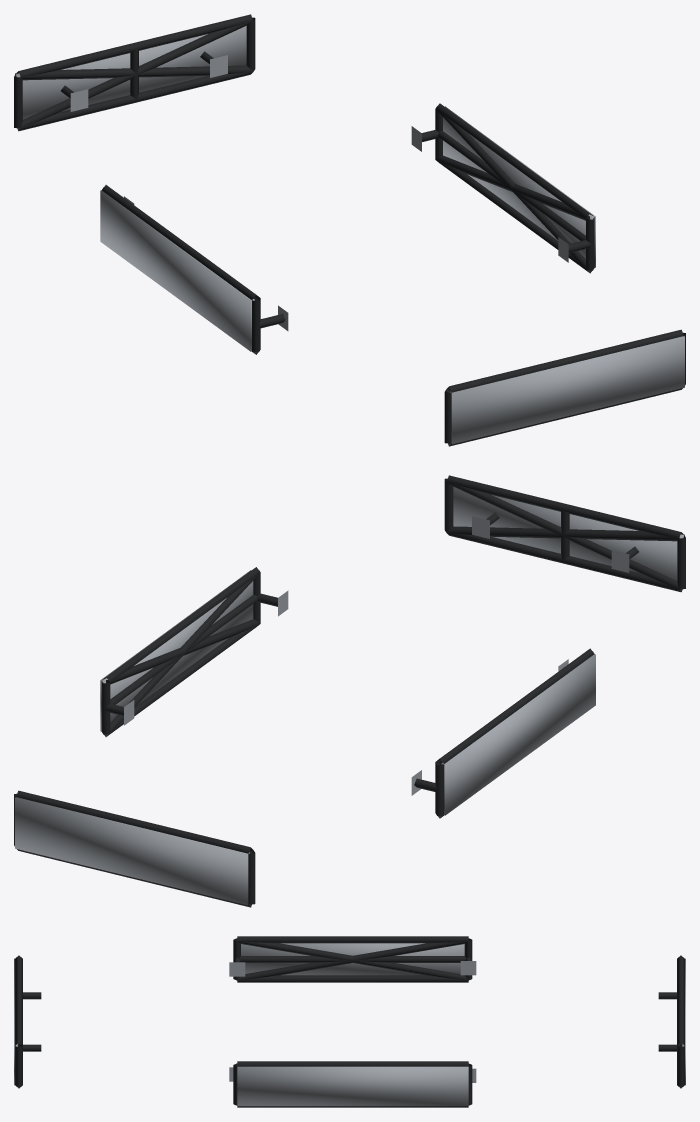
File: sanga_estopim_protecao.glb
The picture shows the model from 3 angles, top to bottom: view 1: azimuth 30°, elevation 25°; view 2: azimuth 150°, elevation 25°; view 3: azimuth 270°, elevation 25°; orthographic projection. The views are drawn at different scales.
Visible parts, largest first — view 1: Protection_front_Level3_Details, Protection_left_Level3_Details, Protection_rear_Level1_Details, Protection_rear_Level3_Details, Protection_right_Level1_Details, Protection_rear_Level2_Details, Protection_right_Level2_Details, Protection_right_Level3_Details, Protection_front_Level1_Details, Protection_left_Level1_Details; view 2: Protection_rear_Level3_Details, Protection_left_Level3_Details, Protection_front_Level1_Details, Protection_front_Level3_Details, Protection_right_Level1_Details, Protection_front_Level2_Details, Protection_right_Level2_Details, Protection_right_Level3_Details, Protection_rear_Level1_Details, Protection_left_Level1_Details; view 3: Protection_right_Level3_Details, Protection_left_Level1_Details, Protection_left_Level2_Details, Protection_left_Level3_Details, Protection_right_Level1_Details, Protection_rear_Level1_Details, Protection_front_Level1_Details.
Boxes of the visible parts, x1,y1,x2,y2 form: Protection_front_Level3_Details: (450, 336, 684, 444); Protection_left_Level3_Details: (100, 190, 254, 351); Protection_rear_Level1_Details: (14, 14, 255, 131); Protection_rear_Level3_Details: (15, 26, 246, 119); Protection_right_Level1_Details: (411, 103, 594, 273); Protection_rear_Level2_Details: (16, 21, 252, 130); Protection_right_Level2_Details: (436, 109, 593, 272); Protection_right_Level3_Details: (443, 106, 595, 267); Protection_front_Level1_Details: (444, 329, 685, 446); Protection_left_Level1_Details: (102, 185, 288, 354); Protection_rear_Level3_Details: (15, 797, 249, 905); Protection_left_Level3_Details: (441, 654, 595, 815); Protection_front_Level1_Details: (444, 475, 685, 592); Protection_front_Level3_Details: (453, 487, 684, 580); Protection_right_Level1_Details: (101, 567, 288, 736); Protection_front_Level2_Details: (447, 482, 683, 591); Protection_right_Level2_Details: (103, 573, 260, 736); Protection_right_Level3_Details: (100, 570, 253, 731); Protection_rear_Level1_Details: (14, 790, 255, 907); Protection_left_Level1_Details: (411, 648, 594, 818); Protection_right_Level3_Details: (237, 1066, 468, 1106); Protection_left_Level1_Details: (229, 936, 476, 982); Protection_left_Level2_Details: (237, 939, 468, 980); Protection_left_Level3_Details: (241, 943, 464, 975); Protection_right_Level1_Details: (229, 1061, 476, 1107); Protection_rear_Level1_Details: (658, 955, 684, 1088); Protection_front_Level1_Details: (15, 955, 41, 1088).
Bounding box in the file's own units: 2.12 × 0.354 × 4.65.
Materials: 1 (1 with a texture image).
